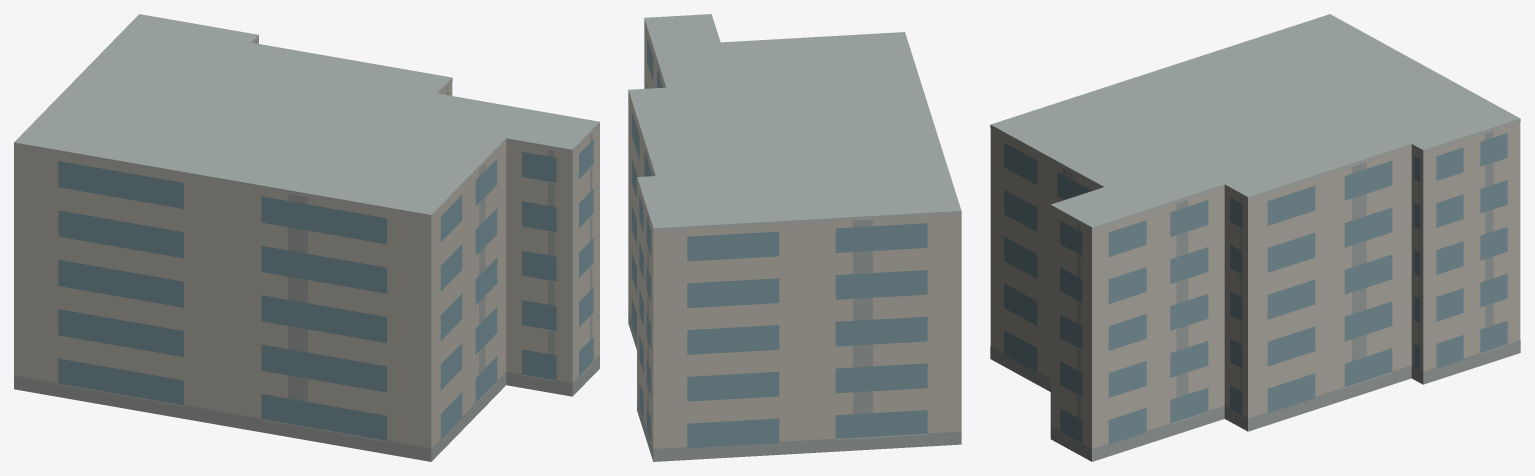
The model's file is residential-1870ce47-11c3-473e-afe8-c252e8b69475.glb.
3 renders of one model, left to right at view 1: azimuth 30°, elevation 25°; view 2: azimuth 150°, elevation 25°; view 3: azimuth 270°, elevation 25°, orthographic. The views are drawn at different scales.
Visible parts, largest first — view 1: residential-1870ce47-11c3-473e-afe8-c252e8b69475.tmp; view 2: residential-1870ce47-11c3-473e-afe8-c252e8b69475.tmp; view 3: residential-1870ce47-11c3-473e-afe8-c252e8b69475.tmp.
Part boxes in pixels (x1,y1,x2,y2): residential-1870ce47-11c3-473e-afe8-c252e8b69475.tmp: [14, 14, 599, 461]; residential-1870ce47-11c3-473e-afe8-c252e8b69475.tmp: [628, 14, 961, 461]; residential-1870ce47-11c3-473e-afe8-c252e8b69475.tmp: [990, 14, 1520, 461].
Size of the model in its own units: 29.78 by 15.25 by 31.25.
